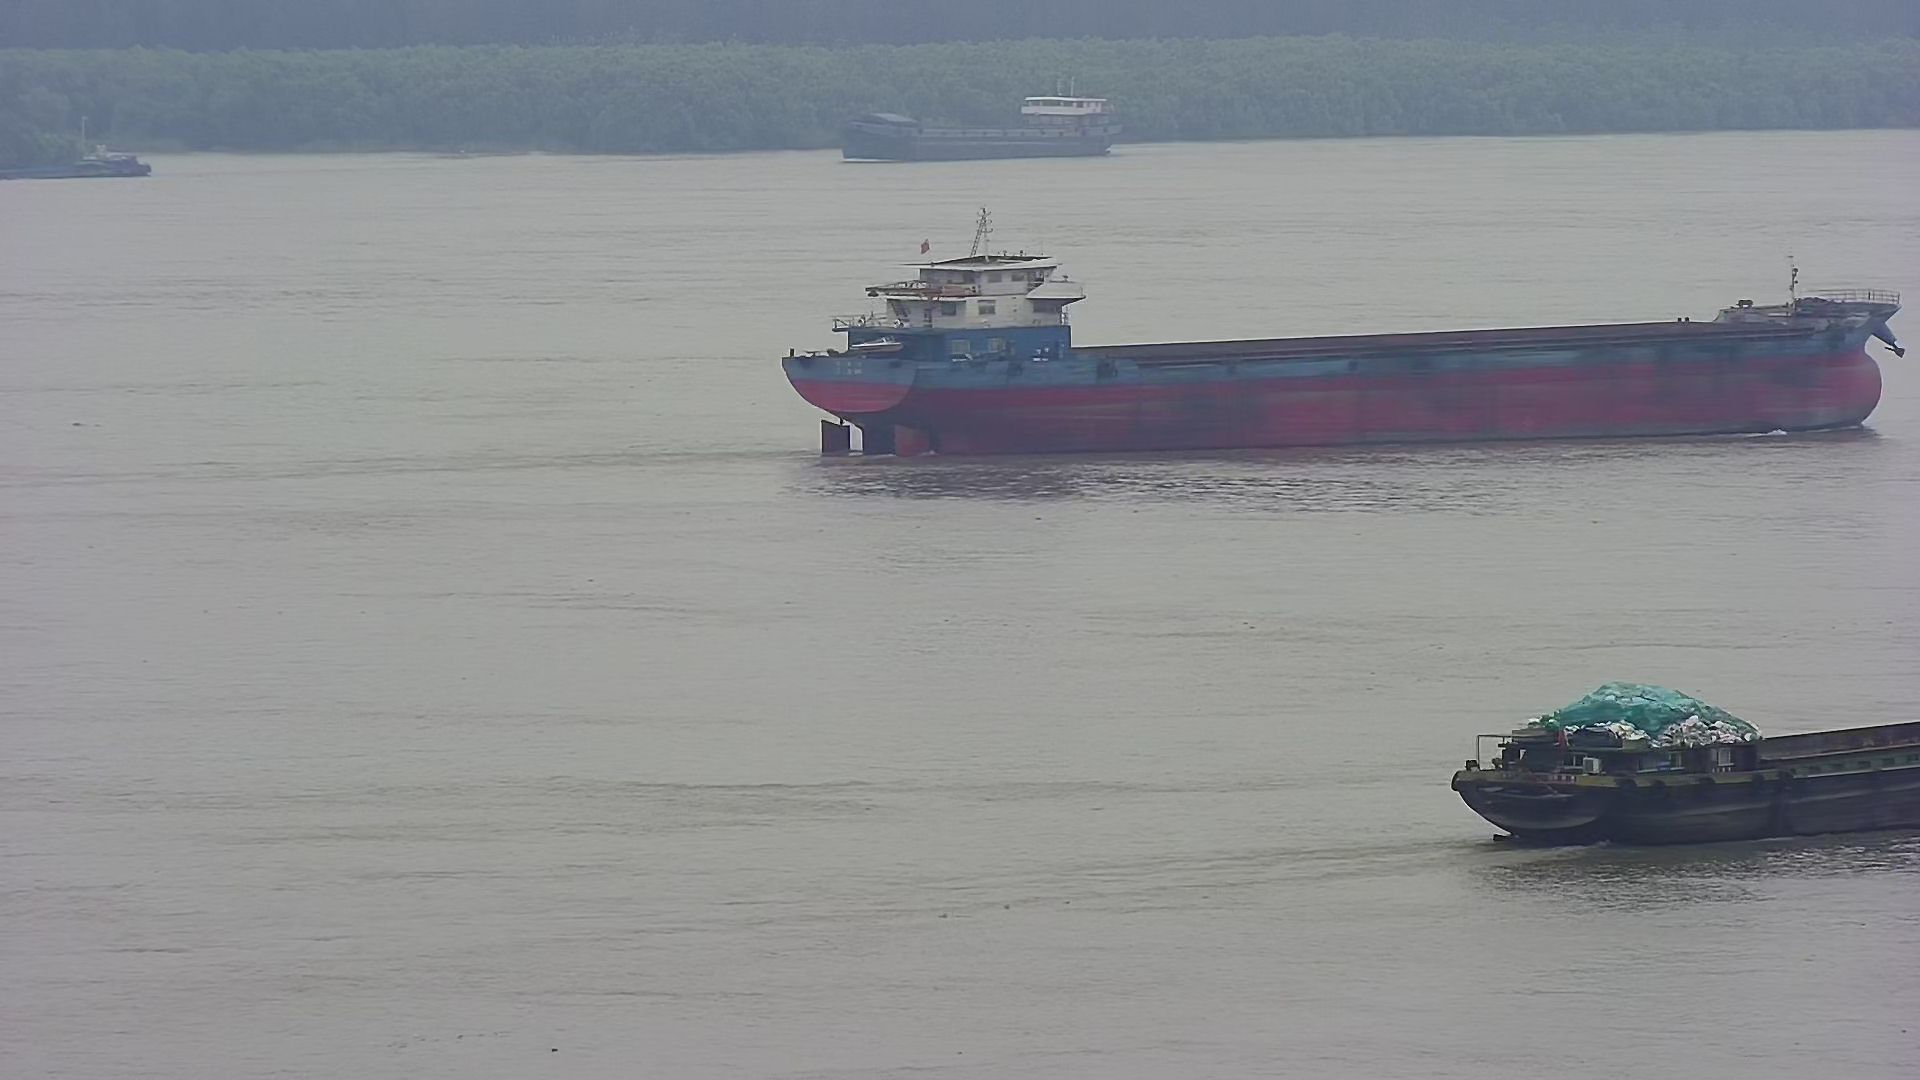boat: (1, 117, 174, 191)
ship: (771, 200, 1912, 491), (1448, 686, 1920, 870), (815, 55, 1139, 185)
